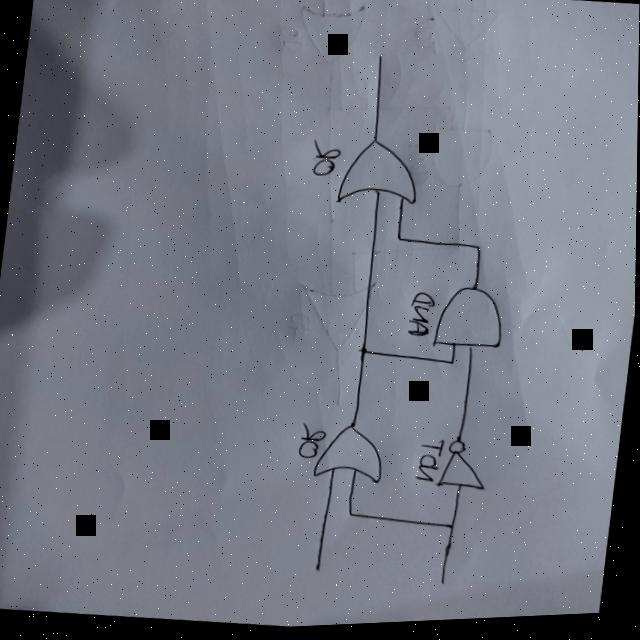junction: (444, 523, 459, 539), (470, 245, 487, 259), (391, 237, 406, 249), (358, 349, 371, 361), (345, 512, 358, 524), (446, 362, 458, 371)
terminal: (438, 578, 451, 592), (312, 566, 325, 578), (374, 56, 385, 65)
text: (406, 294, 437, 343), (307, 139, 341, 183), (415, 441, 445, 488), (296, 424, 328, 463)
